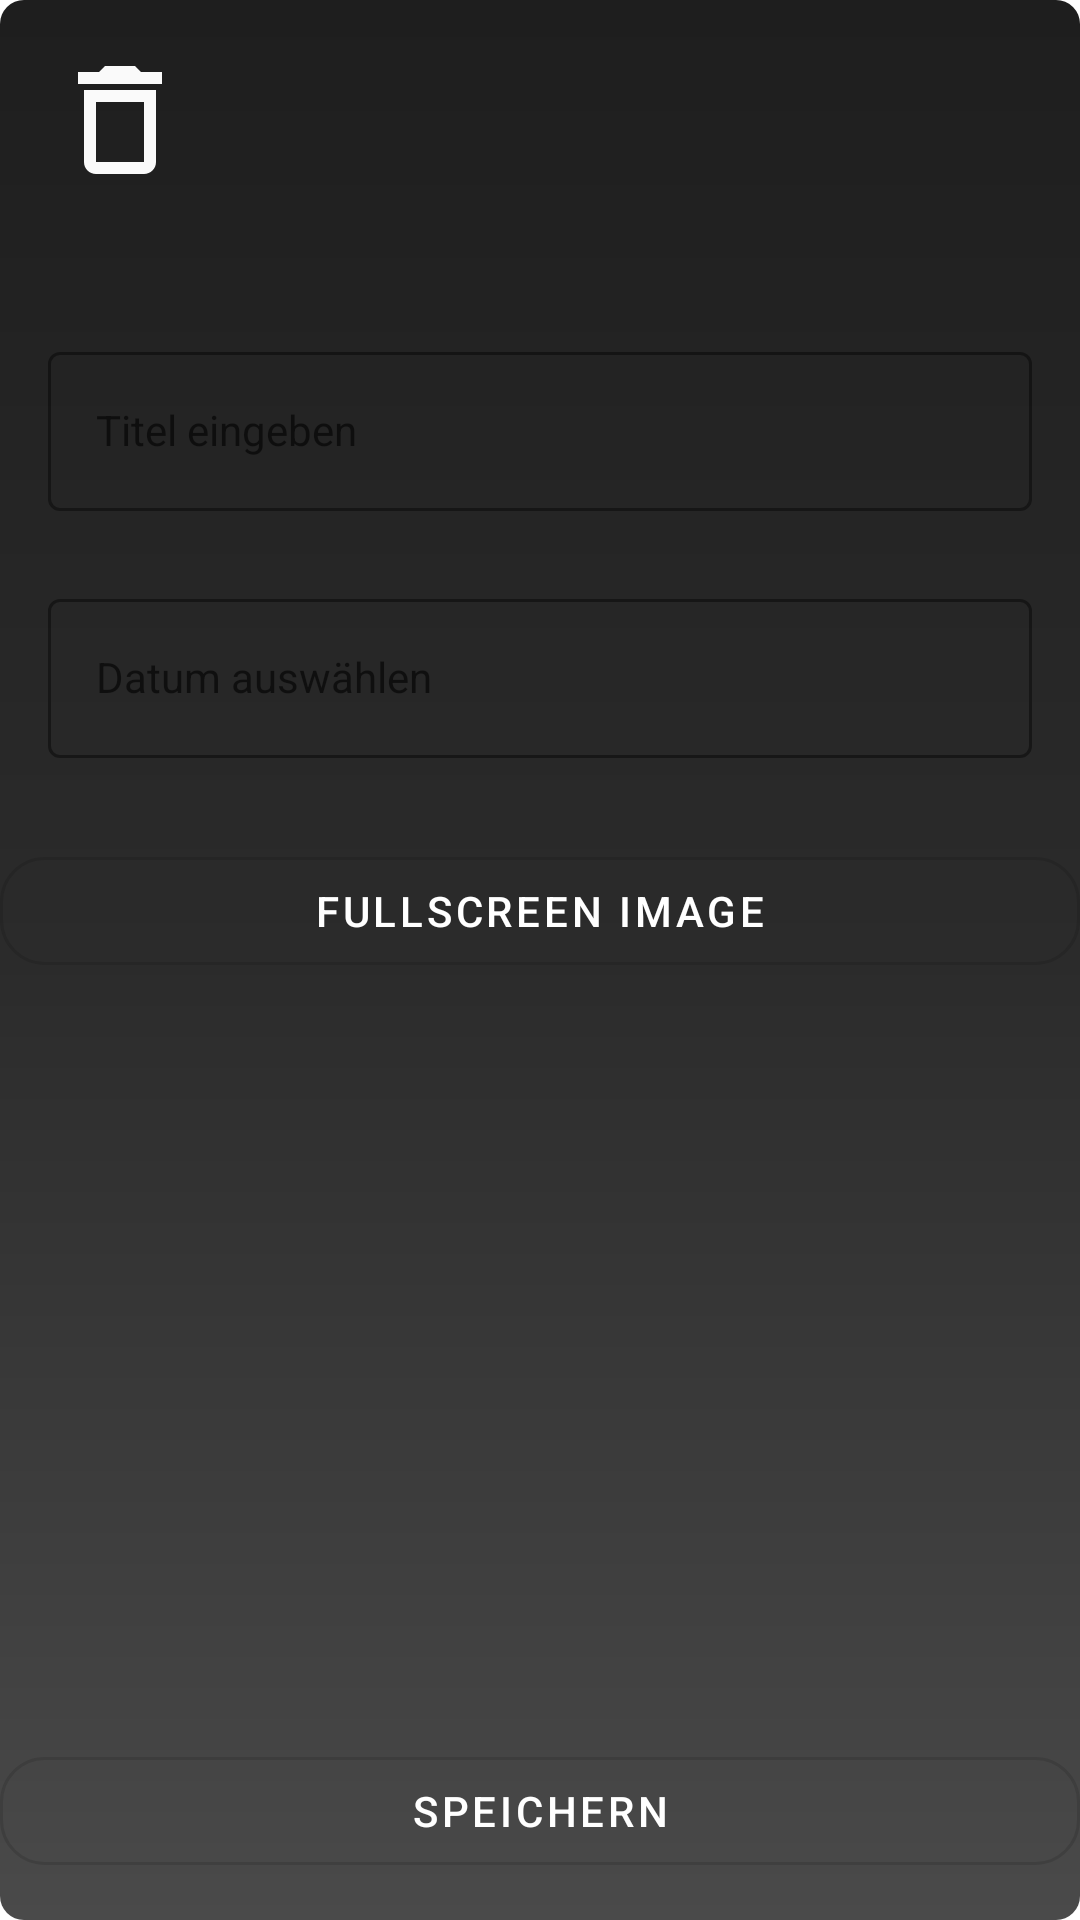

Named icons in this screenshot (1080 x 1920) and their centers, point (x, y):
Delete entry: point (120, 120)
